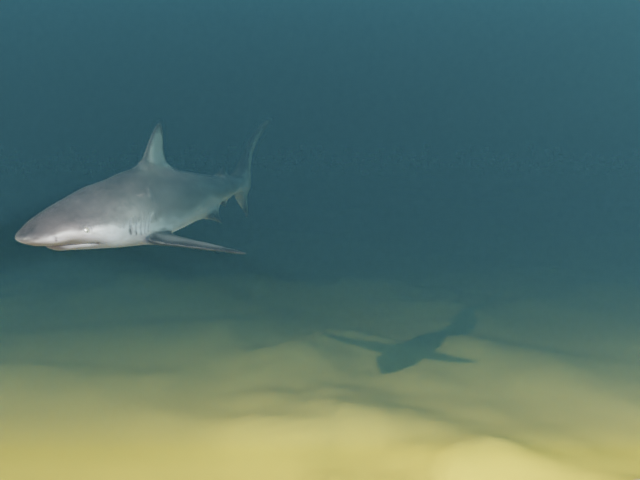Carribean Shark.001: (15, 119, 269, 254)
